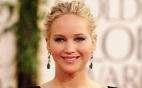female: (38, 2, 103, 75)
